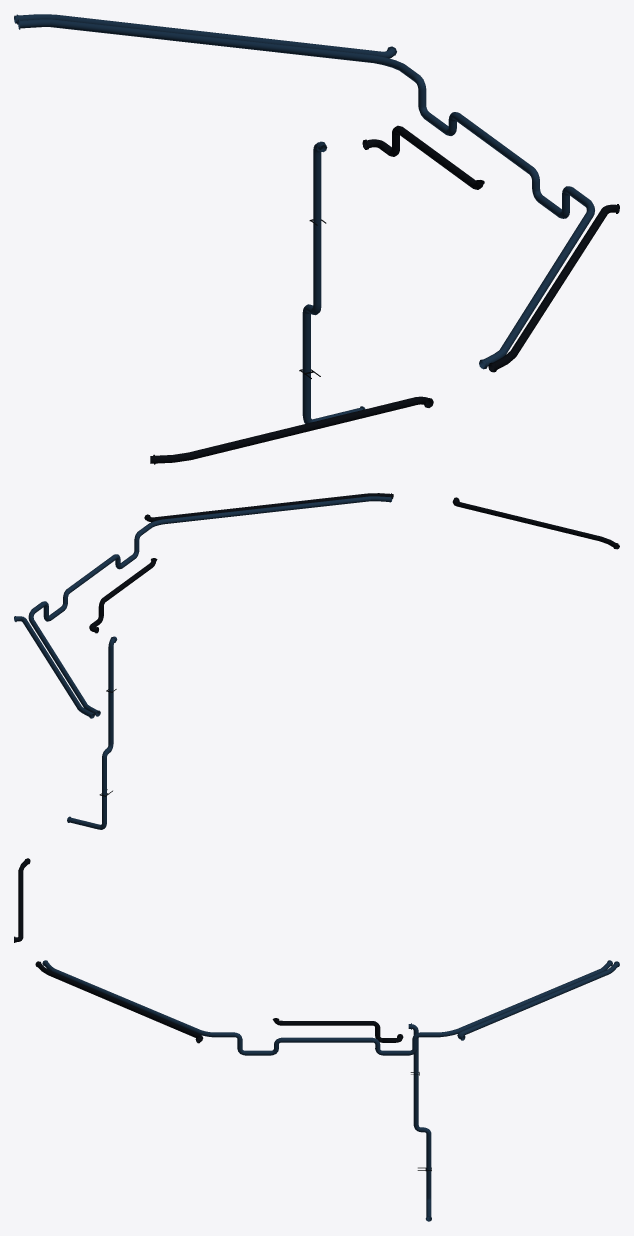
File: SM_H_Building_Tide_DeepJail_01f_ATLAS.fbx
3 renders of one model, top to bottom at view 1: azimuth 30°, elevation 25°; view 2: azimuth 150°, elevation 25°; view 3: azimuth 270°, elevation 25°, orthographic. The views are drawn at different scales.
Parts seen in each view (by area): view 1: SM_H_Building_Tide_DeepJail_01f_ATLAS; view 2: SM_H_Building_Tide_DeepJail_01f_ATLAS; view 3: SM_H_Building_Tide_DeepJail_01f_ATLAS.
Part boxes in pixels (x1,y1,x2,y2): SM_H_Building_Tide_DeepJail_01f_ATLAS: [14, 14, 619, 464]; SM_H_Building_Tide_DeepJail_01f_ATLAS: [14, 493, 619, 829]; SM_H_Building_Tide_DeepJail_01f_ATLAS: [14, 858, 619, 1221].
Bounding box in the file's own units: 3884 × 5472 × 2031.
